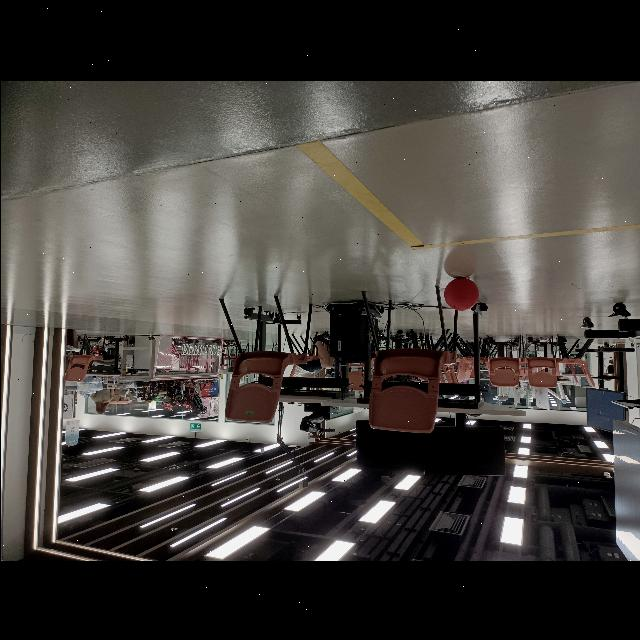R: (442, 274, 480, 310)
